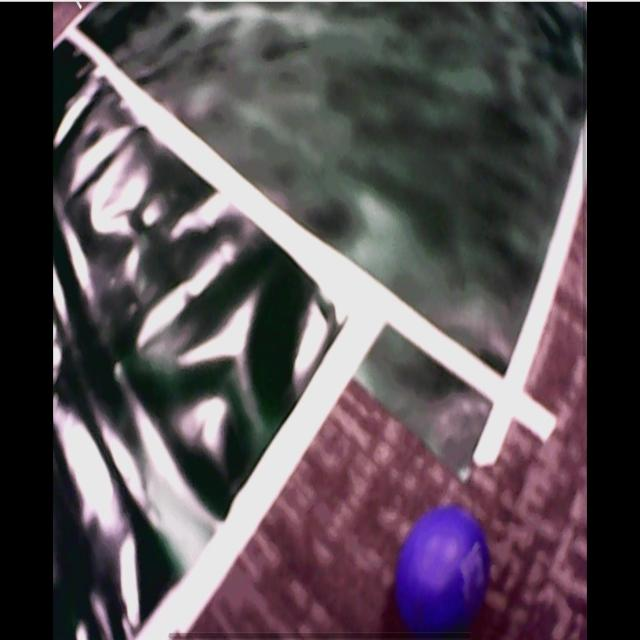ball: (399, 506, 491, 640)
